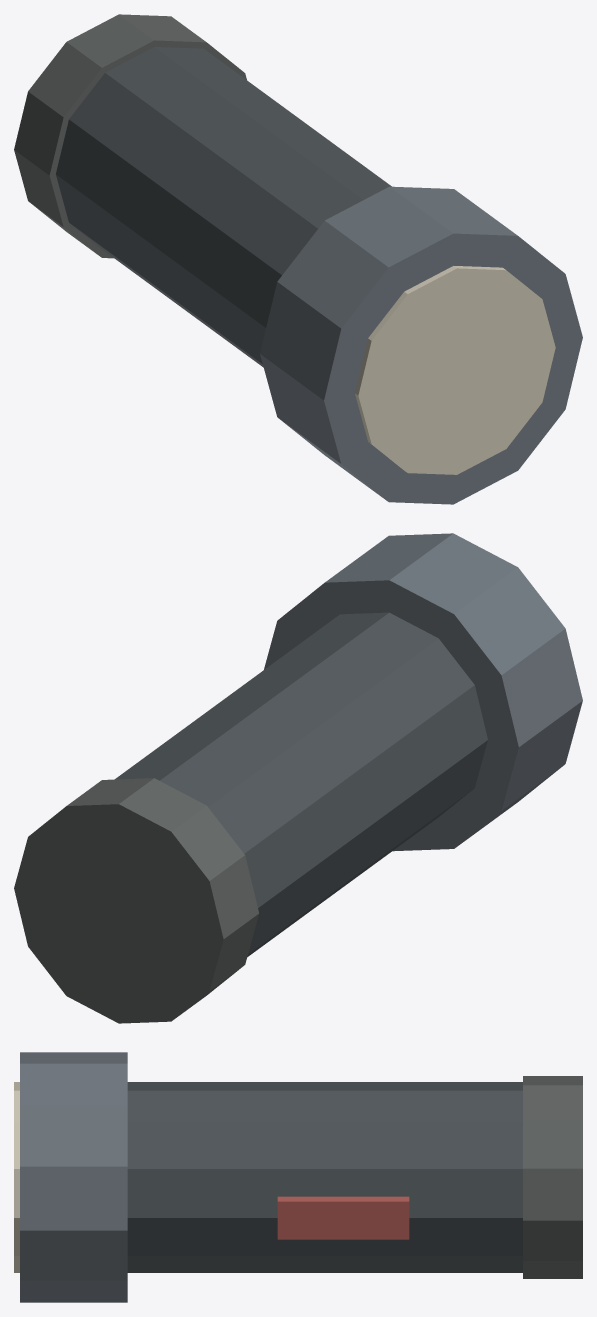
Rendered from flashlight.glb.
3 renders of one model, top to bottom at view 1: azimuth 30°, elevation 25°; view 2: azimuth 150°, elevation 25°; view 3: azimuth 270°, elevation 25°, orthographic. The views are drawn at different scales.
Parts seen in each view (by area): view 1: 00_body, 01_bezel, 02_lens, 04_base; view 2: 00_body, 04_base, 01_bezel; view 3: 00_body, 01_bezel, 04_base, 03_switch, 02_lens.
Boxes of the visible parts, x1,y1,x2,y2 form: 00_body: (56,47,391,367); 01_bezel: (260,186,582,504); 02_lens: (355,266,555,474); 04_base: (14,14,246,258); 00_body: (114,612,487,956); 04_base: (14,778,259,1023); 01_bezel: (264,533,582,851); 00_body: (127,1082,522,1272); 01_bezel: (20,1052,127,1302); 04_base: (523,1076,582,1278); 03_switch: (277,1196,409,1239); 02_lens: (14,1082,19,1272).
Bounding box in the file's own units: 0.21 × 0.21 × 0.475.
